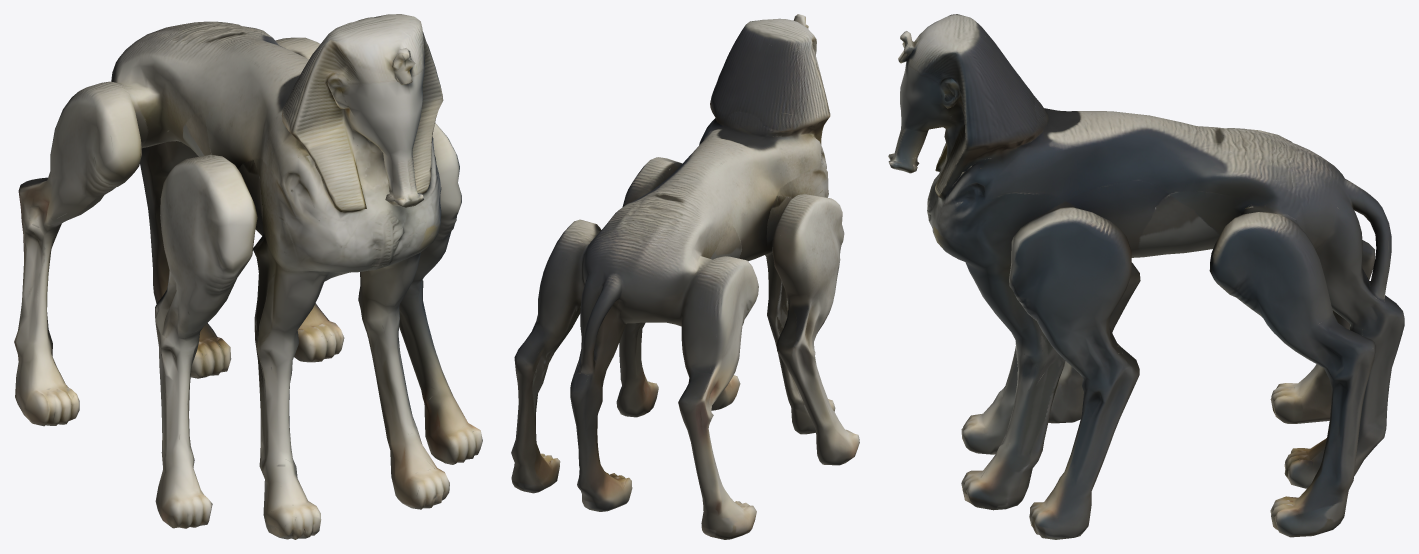
The model's file is Faceless Sphinx Statue.glb.
The picture shows the model from 3 angles, left to right: view 1: azimuth 30°, elevation 25°; view 2: azimuth 150°, elevation 25°; view 3: azimuth 270°, elevation 25°; orthographic projection. The views are drawn at different scales.
Parts seen in each view (by area): view 1: Mesh_0; view 2: Mesh_0; view 3: Mesh_0.
Part boxes in pixels (x1,y1,x2,y2): Mesh_0: (14,14,482,539); Mesh_0: (511,14,859,539); Mesh_0: (888,14,1404,539).
Size of the model in its own units: 3.23 by 5 by 5.24.
Materials: 1 (1 with a texture image).
